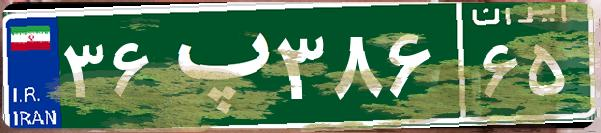3: (273, 28, 330, 110), (57, 26, 110, 107)
5: (525, 38, 570, 115)
6: (385, 28, 445, 110), (475, 38, 525, 113), (110, 28, 158, 105)
8: (330, 28, 385, 110)
پ: (158, 15, 273, 115)
